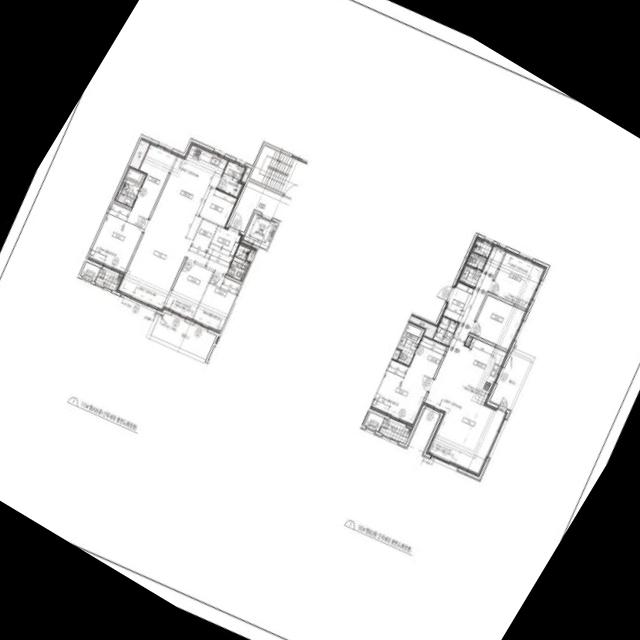background: (0, 0, 640, 640)
space_balconi: (379, 418, 411, 444), (95, 268, 121, 291)
space_bedroom: (88, 203, 148, 274), (370, 360, 432, 427), (489, 250, 546, 309), (471, 295, 526, 350), (164, 260, 213, 321), (192, 272, 241, 333)
space_dressroom: (131, 142, 177, 218), (409, 336, 446, 378)
space_elevator: (243, 213, 278, 249)
space_elevator_hall: (229, 181, 291, 232)
space_front: (442, 281, 475, 322), (209, 226, 242, 258)
space_kitchen: (149, 142, 229, 240), (454, 338, 508, 396)
space_living_room: (424, 244, 507, 476), (116, 221, 232, 311)
space_multipurpose_space: (217, 159, 245, 196)
space_other: (202, 189, 236, 226), (193, 219, 217, 247), (433, 317, 457, 345), (129, 138, 150, 169), (409, 315, 437, 338), (240, 166, 251, 184), (246, 249, 255, 261), (392, 349, 400, 360), (465, 336, 472, 346)
space_outdoor_room: (364, 412, 384, 431), (80, 262, 100, 281)
space_staircase: (249, 145, 306, 197)
space_toilet: (459, 240, 492, 286), (115, 167, 146, 207), (396, 322, 424, 365), (227, 245, 250, 281)
